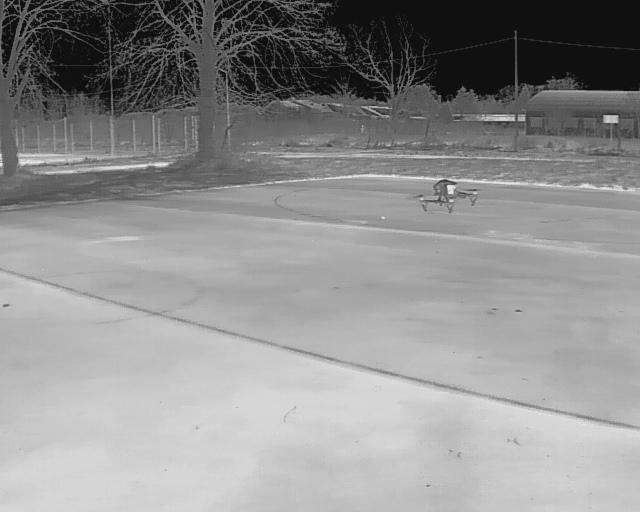drone: (401, 172, 494, 221)
